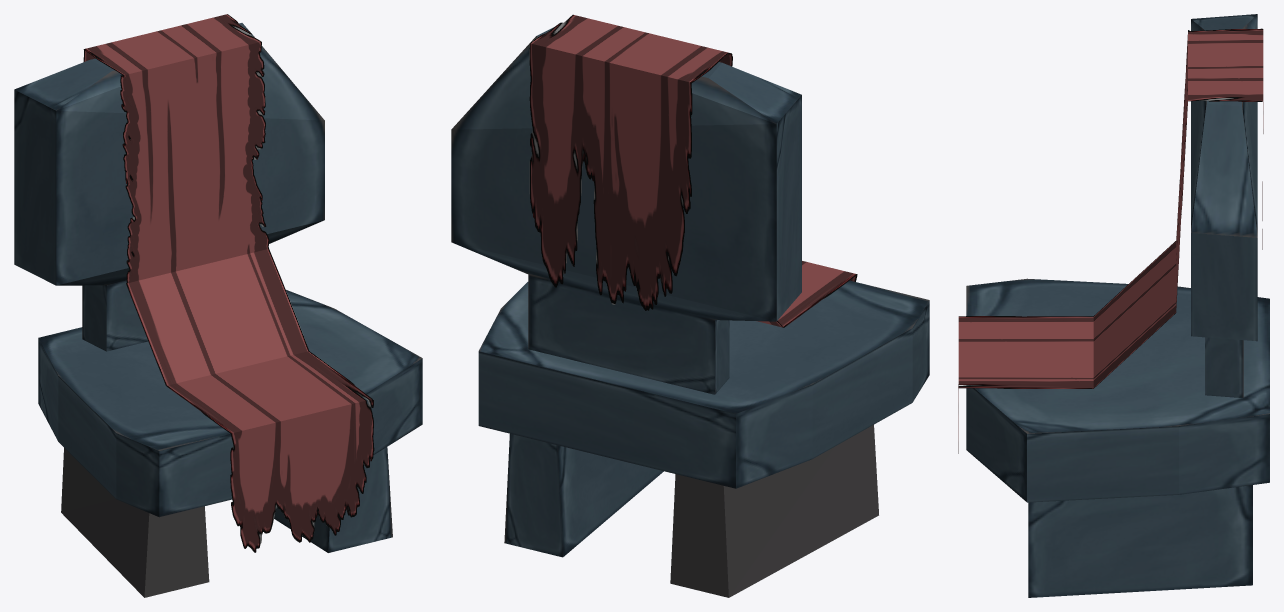
File: Stonechair.fbx
The picture shows the model from 3 angles, left to right: view 1: azimuth 30°, elevation 25°; view 2: azimuth 150°, elevation 25°; view 3: azimuth 270°, elevation 25°; orthographic projection. The views are drawn at different scales.
Parts seen in each view (by area): view 1: Stonechair; view 2: Stonechair; view 3: Stonechair.
Part boxes in pixels (box(x1,y1,x2,y2)): Stonechair: box(14, 14, 422, 597); Stonechair: box(451, 14, 929, 597); Stonechair: box(958, 14, 1269, 597).
Bounding box in the file's own units: 3.48 × 4.92 × 2.96.
